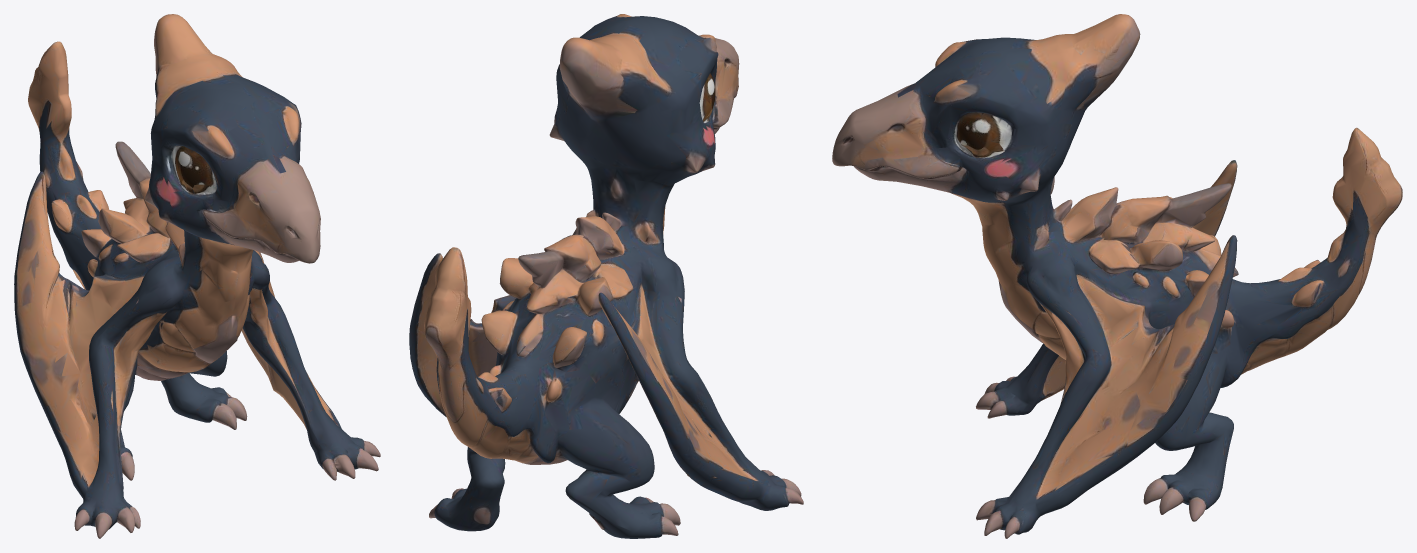
3 views of the same model, side by side, from view 1: azimuth 30°, elevation 25°; view 2: azimuth 150°, elevation 25°; view 3: azimuth 270°, elevation 25° (orthographic). The views are drawn at different scales.
Parts seen in each view (by area): view 1: Mesh_0; view 2: Mesh_0; view 3: Mesh_0.
Boxes of the visible parts, x1,y1,x2,y2 form: Mesh_0: [14, 14, 380, 538]; Mesh_0: [409, 14, 803, 538]; Mesh_0: [832, 14, 1402, 538].
Size of the model in its own units: 1.2 by 1.67 by 1.9.
Materials: 1 (1 with a texture image).
